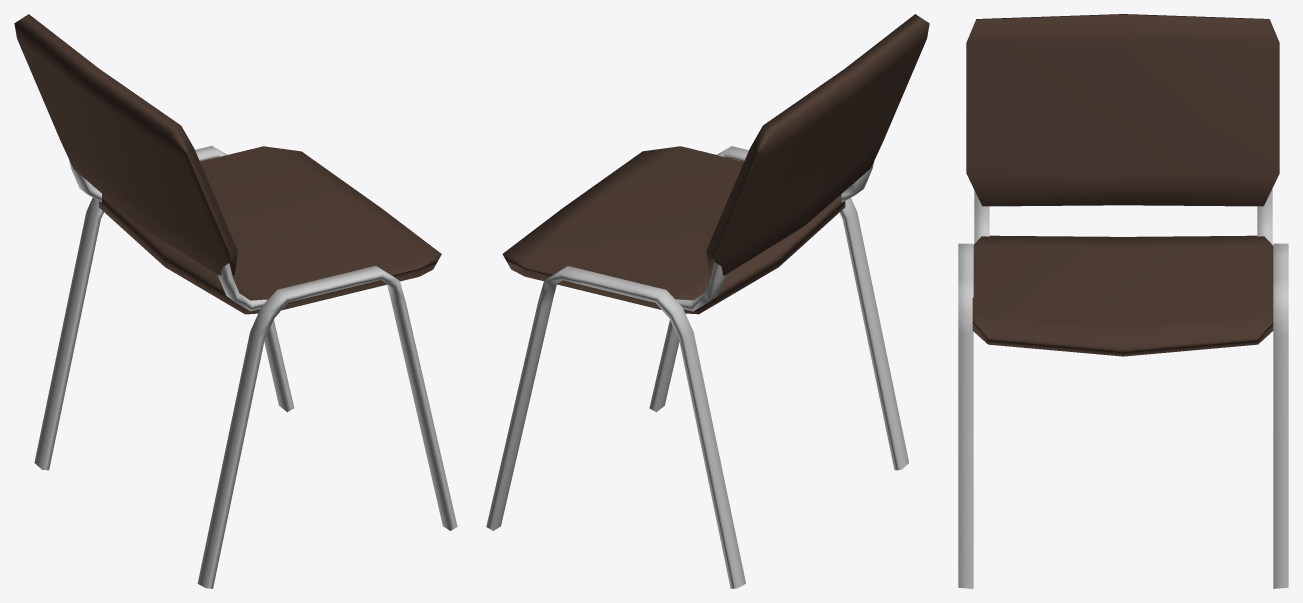
Rendered from chair.fbx.
3 renders of one model, left to right at view 1: azimuth 30°, elevation 25°; view 2: azimuth 150°, elevation 25°; view 3: azimuth 270°, elevation 25°, orthographic. The views are drawn at different scales.
Parts seen in each view (by area): view 1: chair; view 2: chair; view 3: chair.
Boxes of the visible parts, box(x1,y1,x2,y2) form: chair: box(14, 14, 457, 588); chair: box(486, 14, 929, 588); chair: box(958, 14, 1288, 588).
Size of the model in its own units: 0.4133 by 0.6201 by 0.4148.
